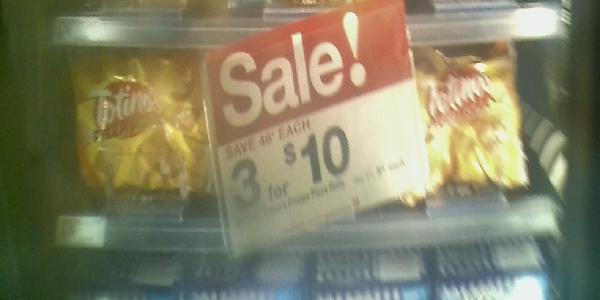icecream: (372, 40, 543, 204), (62, 46, 220, 216)
